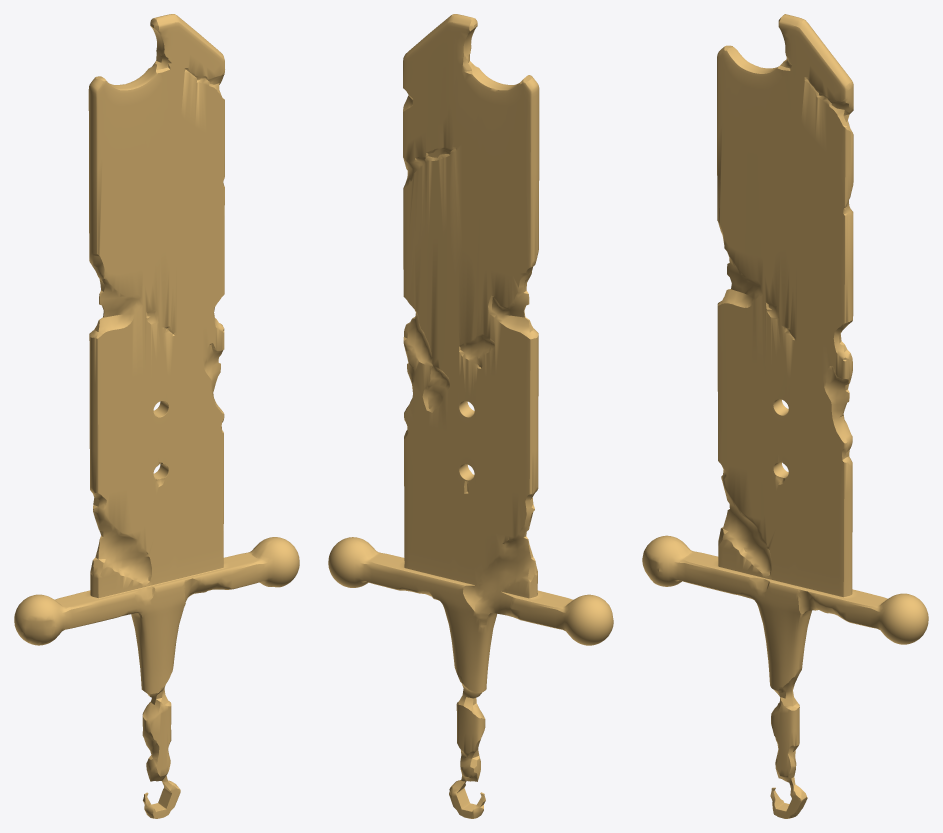
The model's file is DamagedSword.glb.
3 views of the same model, side by side, from view 1: azimuth 30°, elevation 25°; view 2: azimuth 150°, elevation 25°; view 3: azimuth 330°, elevation 25° (orthographic).
Parts seen in each view (by area): view 1: Sword2_Weathered; view 2: Sword2_Weathered; view 3: Sword2_Weathered.
Boxes of the visible parts, x1,y1,x2,y2 form: Sword2_Weathered: [14, 14, 299, 818]; Sword2_Weathered: [328, 14, 613, 818]; Sword2_Weathered: [642, 14, 928, 818].
Bounding box in the file's own units: 0.4404 × 1.2 × 0.0679.
